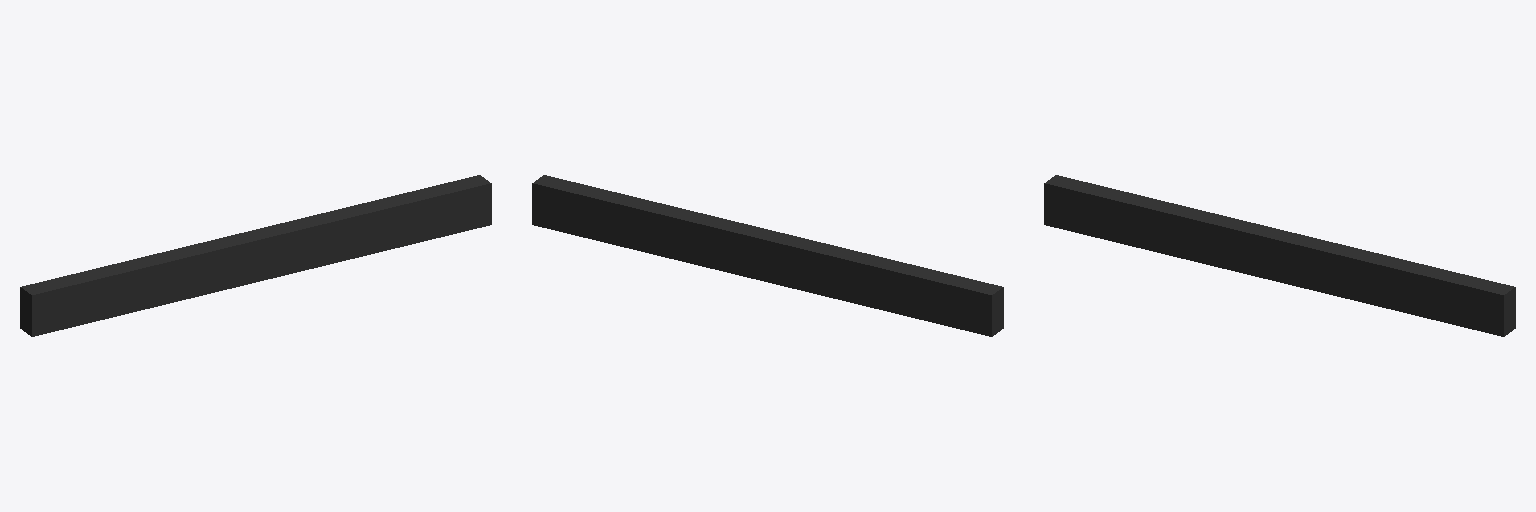
robot.urdf — wall:
<robot name="wall">
  <link name="baseLink">
   
    <inertial>
      <origin rpy="0 0 0" xyz="0 0 0" />
       <mass value="10" />
       <inertia ixx="0" ixy="0" ixz="0" iyy="0" iyz="0" izz="0" />
    </inertial>
    <visual>
      <origin rpy="0 0 0" xyz="0 0 0" />
      <geometry>
			  <box size="2.3 0.1 0.2" />
      </geometry>
       <material name="grey">
        <color rgba="0.24 0.24 0.24 1" />
      </material>
    </visual>
    <collision>
      <origin rpy="0 0 0" xyz="0 0 0" />
      <geometry>
	 	      <box size="2.3 0.1 0.2" />
      </geometry>
    </collision>
  </link>
</robot>

--- Facts derived from the render (not from the file) ---
The picture shows the robot from 3 angles, left to right: view 1: azimuth 30°, elevation 25°; view 2: azimuth 150°, elevation 25°; view 3: azimuth 330°, elevation 25°; orthographic projection.
Model wall with 1 links and 0 joints (none), rooted at baseLink, posed every joint at zero.
Links seen in each view (by area): view 1: baseLink; view 2: baseLink; view 3: baseLink.
Boxes of the visible links, <box> form: baseLink: <box>20,175,491,336</box>; baseLink: <box>532,175,1003,336</box>; baseLink: <box>1044,175,1515,336</box>.
Size in the robot's own frame: 2.3 by 0.1 by 0.2 metres.
Geometry: primitives only (box / cylinder / sphere), no mesh files.
